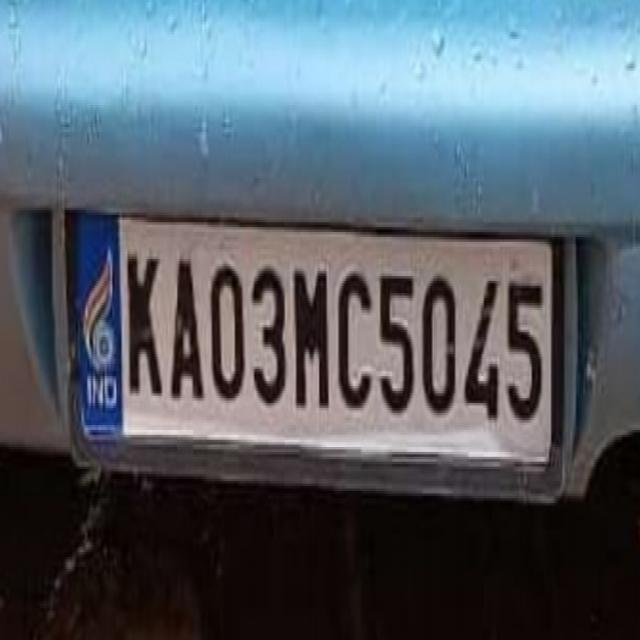0: (422, 254, 459, 423), (209, 249, 248, 404)
3: (248, 246, 290, 408)
4: (464, 272, 502, 432)
5: (505, 264, 547, 434), (377, 255, 418, 416)
A: (169, 238, 207, 408)
C: (334, 254, 374, 415)
K: (124, 239, 164, 400)
M: (290, 246, 332, 417)
